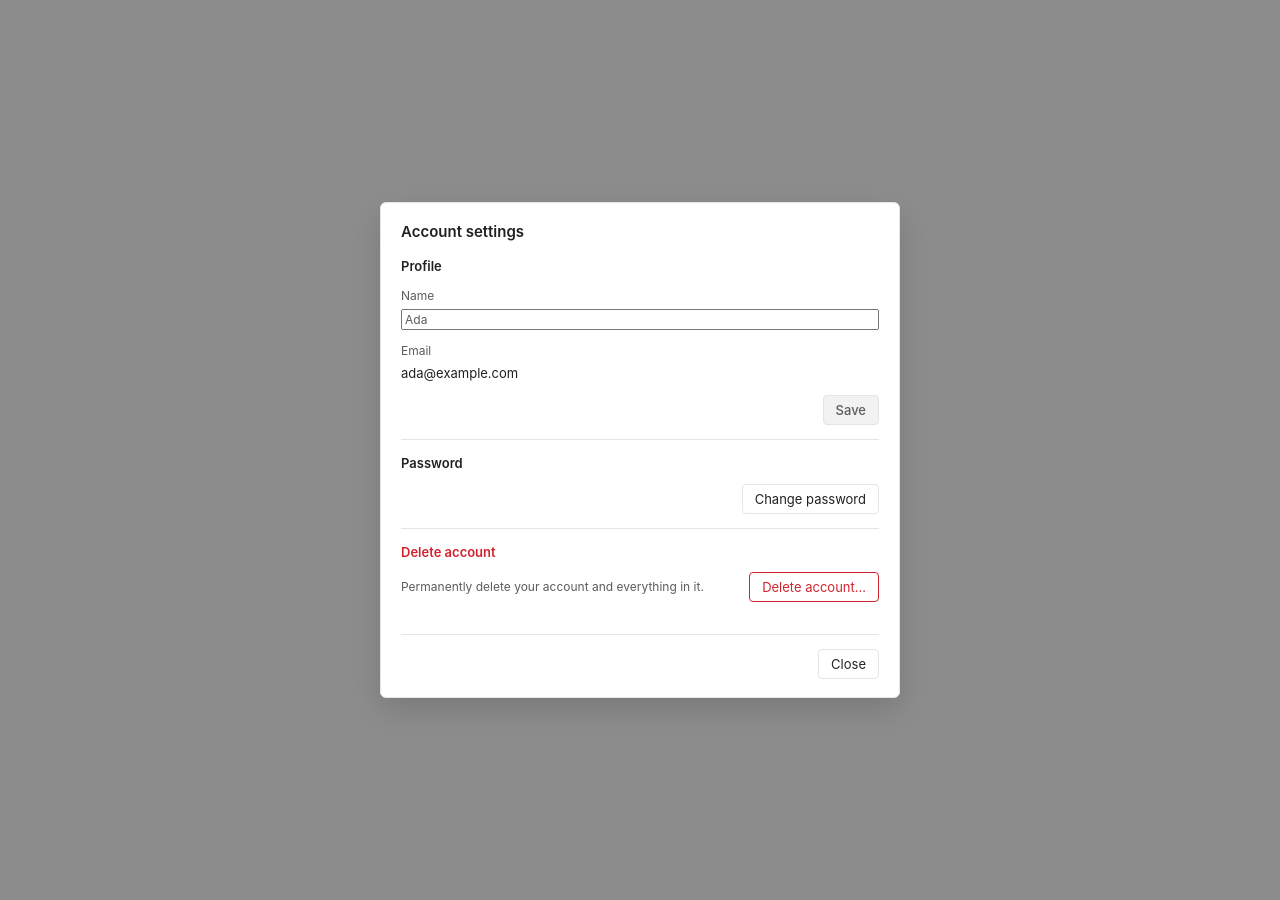
AccountSettingsModal › a wrong current password is said under the fields, which stay open
Click the button "Change password" at coordinates (810, 499), box [742, 484, 879, 514]
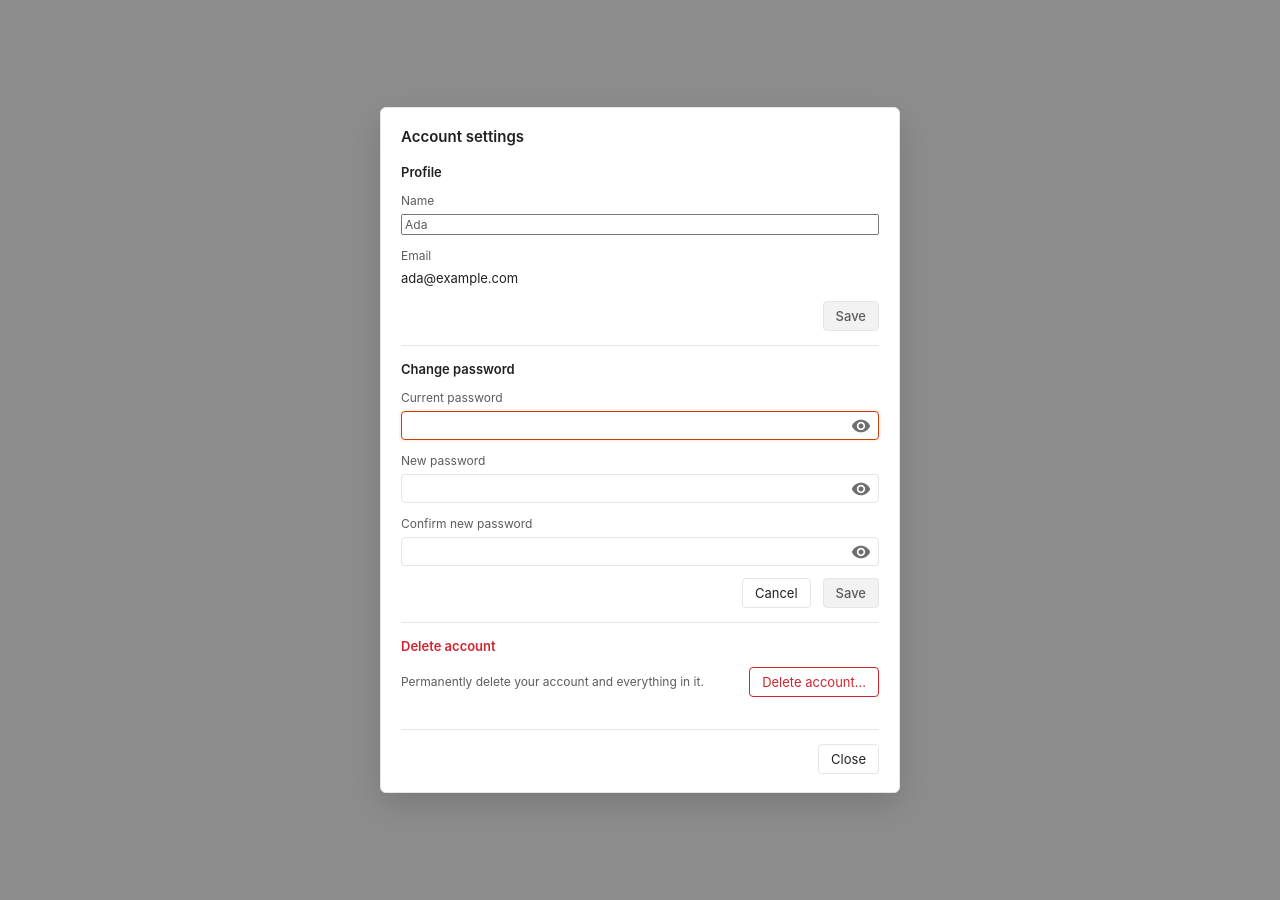
Type "not it at all" into the password field labelled "Current password" at coordinates (640, 426), box [401, 411, 879, 440]
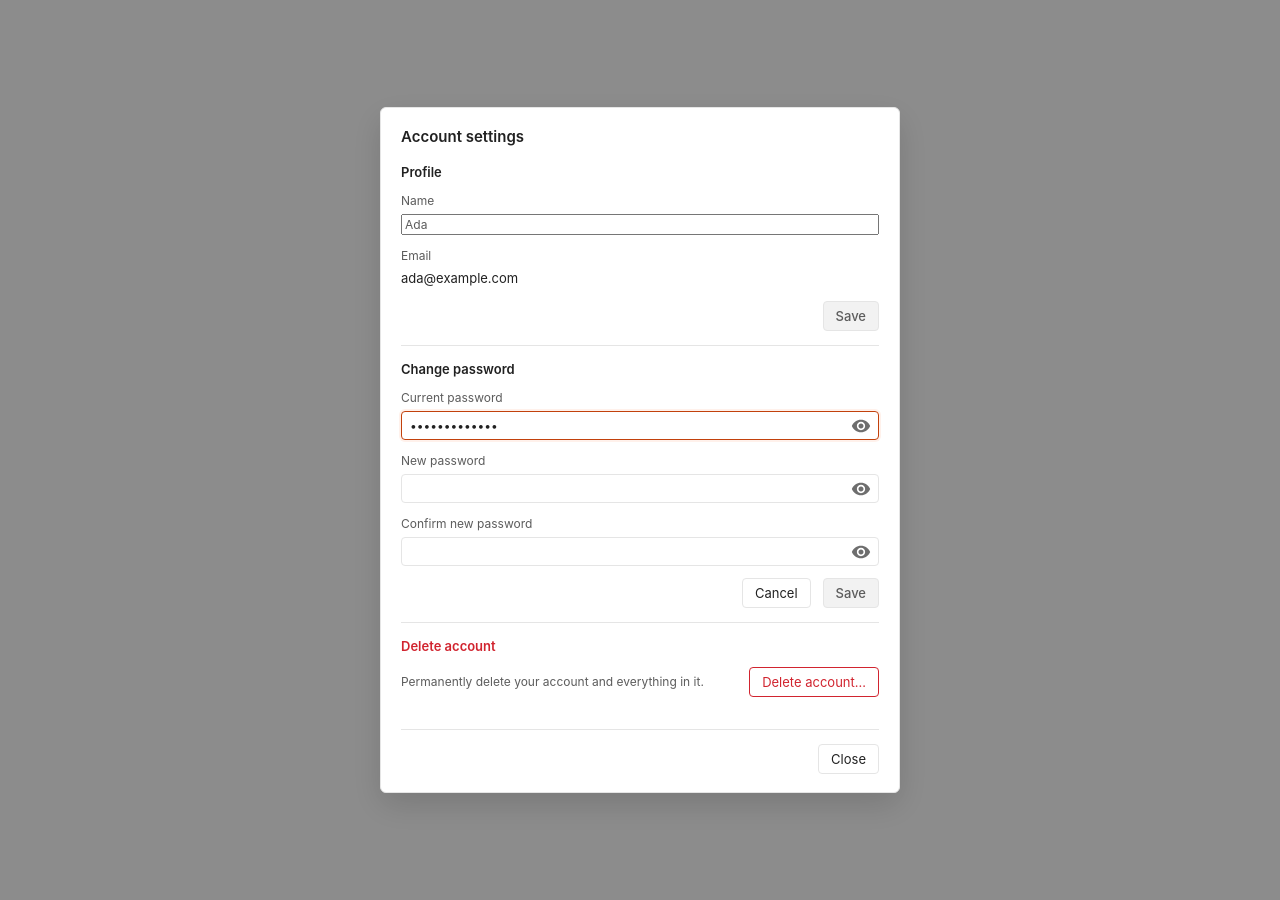
Type "a brand new passphrase" into the password field labelled "New password" at coordinates (640, 489), box [401, 474, 879, 503]
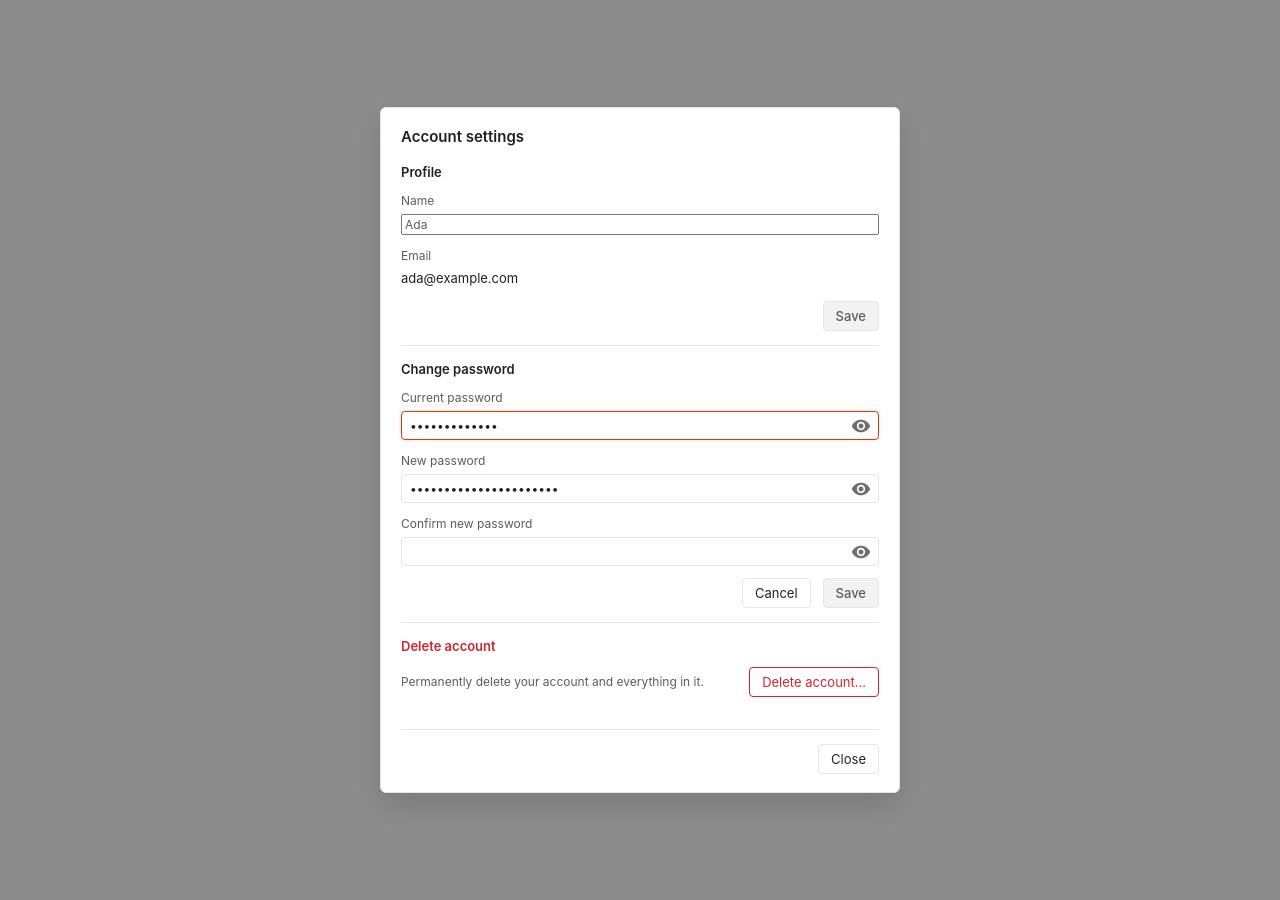
Type "a brand new passphrase" into the password field labelled "Confirm new password" at coordinates (640, 552), box [401, 537, 879, 566]
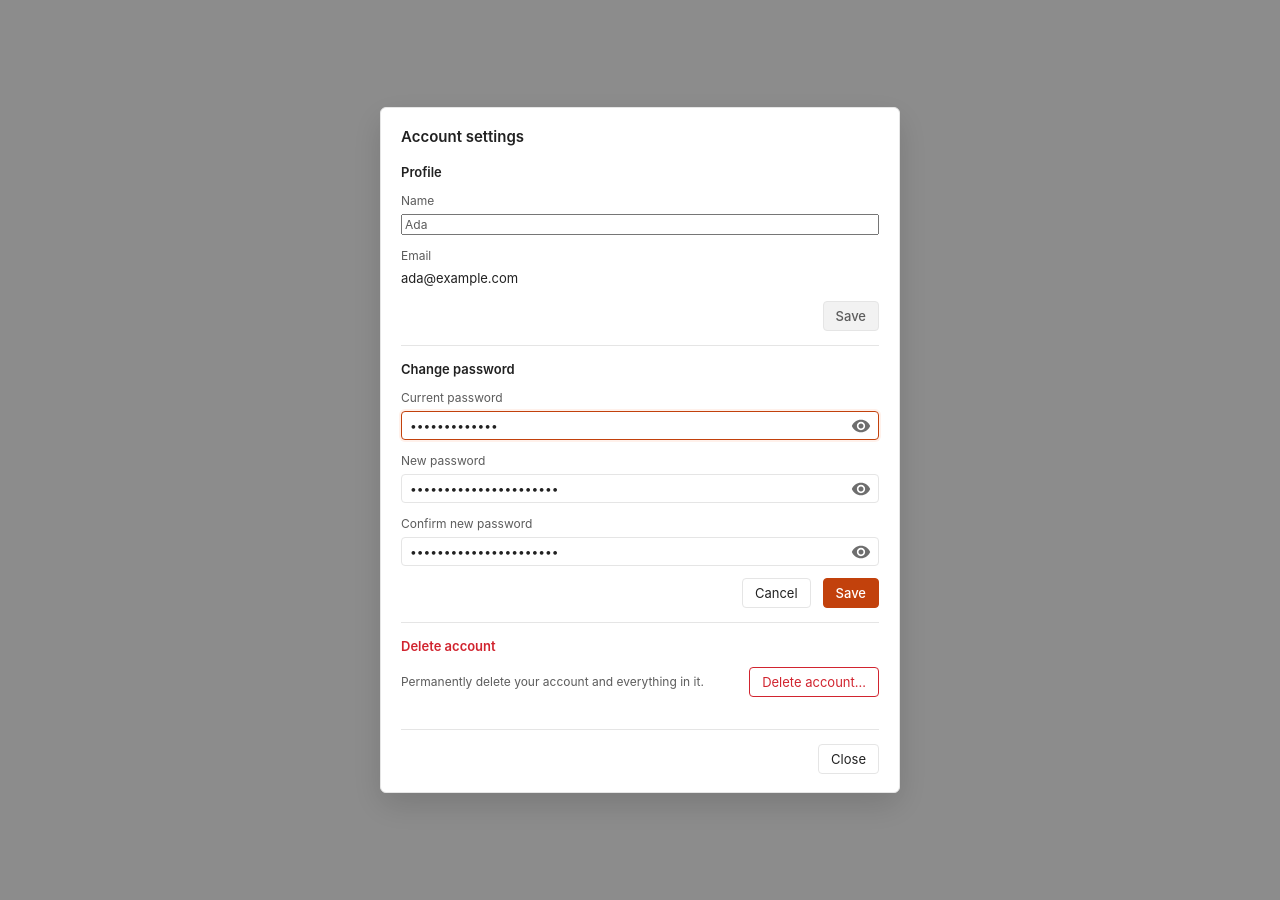
Click the 2nd button "Save" at coordinates (851, 593), box [823, 578, 879, 608]
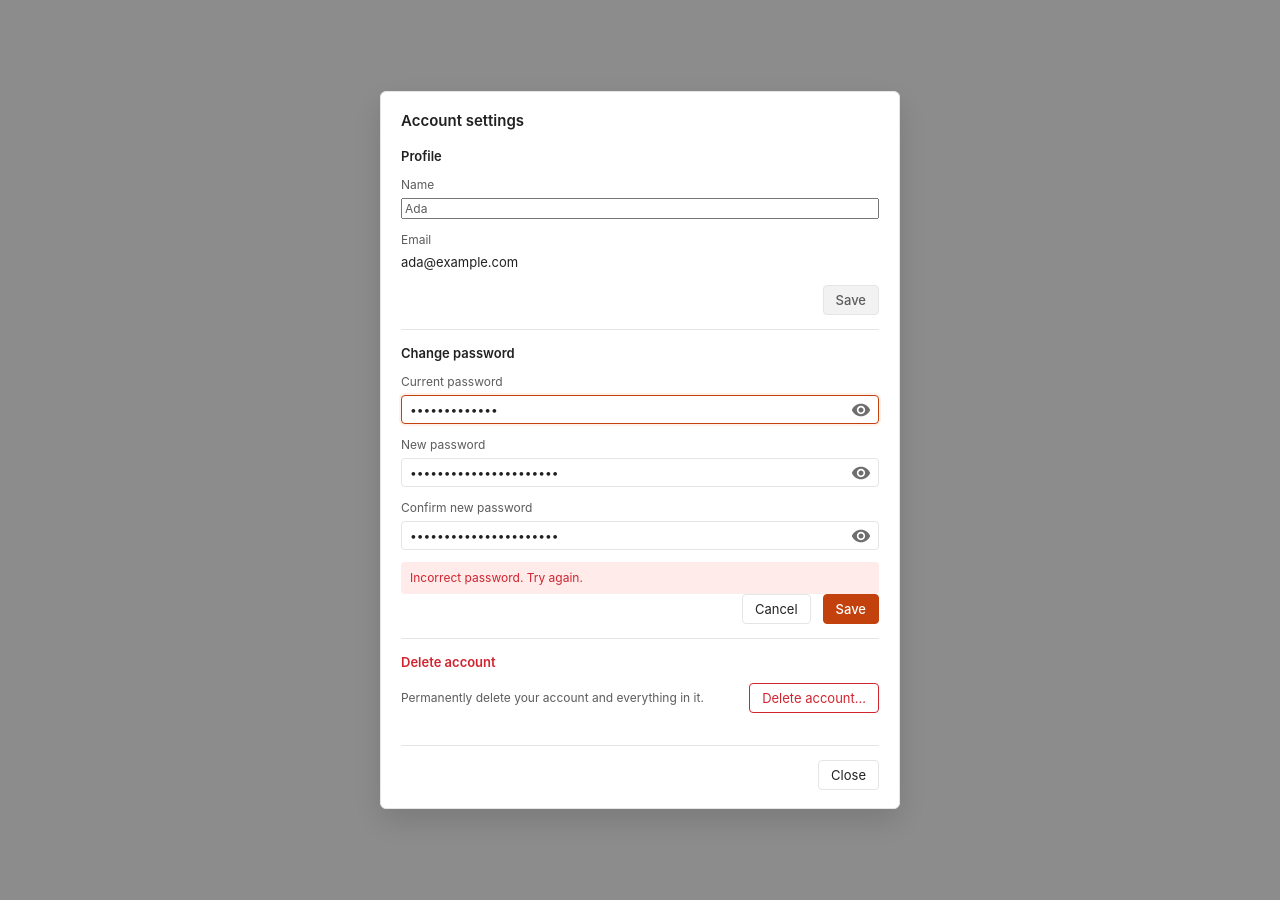
Expected: the message reads "Incorrect password. Try again.", [410, 570, 583, 585]
